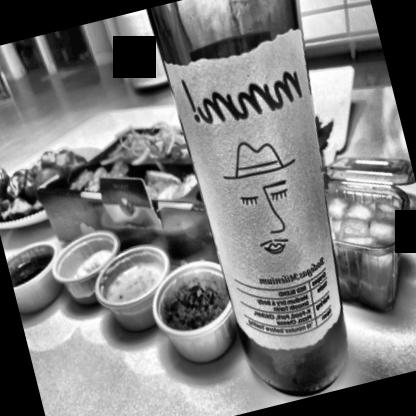umm: (166, 23, 378, 364)
